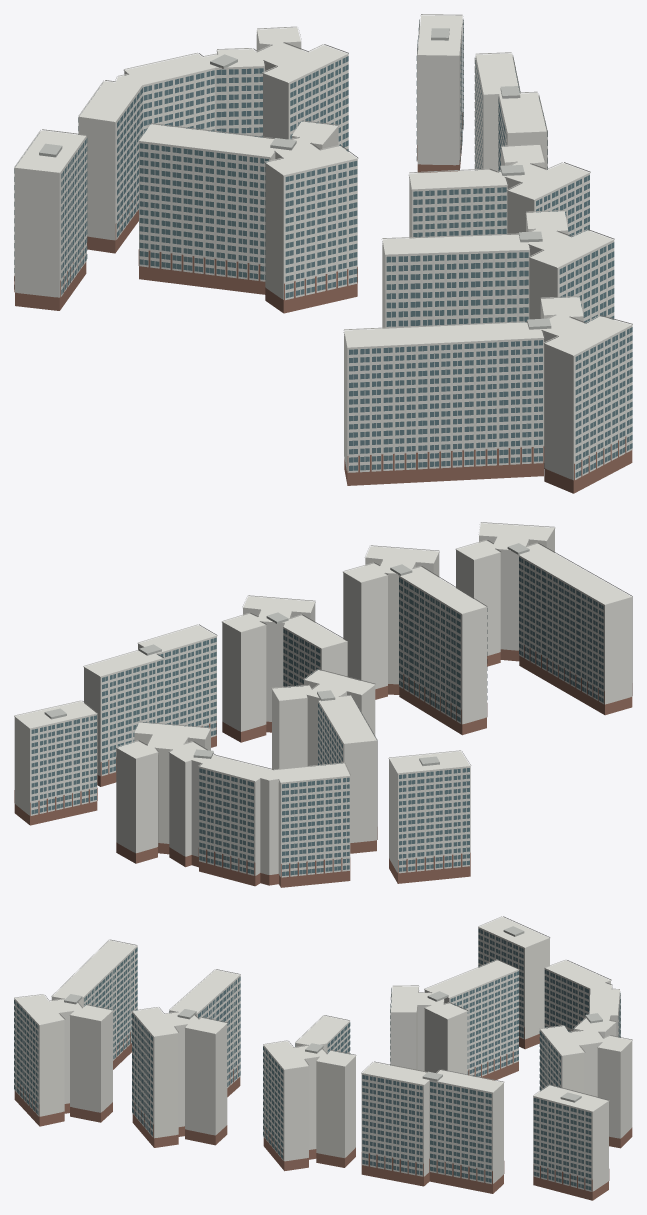
The model's file is representative-a15728003.glb.
The picture shows the model from 3 angles, top to bottom: view 1: azimuth 30°, elevation 25°; view 2: azimuth 150°, elevation 25°; view 3: azimuth 270°, elevation 25°; orthographic projection. The views are drawn at different scales.
Visible parts, largest first — view 1: A15728003_wall001, A15728003_trim001, A15728003_glass001, A15728003_base001, A15728003_roof001; view 2: A15728003_wall001, A15728003_trim001, A15728003_glass001, A15728003_base001, A15728003_roof001; view 3: A15728003_wall001, A15728003_trim001, A15728003_glass001, A15728003_base001, A15728003_roof001.
Part boxes in pixels (bbox=[...]): A15728003_wall001: bbox=[15, 15, 631, 480]; A15728003_trim001: bbox=[14, 14, 632, 479]; A15728003_glass001: bbox=[14, 20, 632, 477]; A15728003_base001: bbox=[14, 112, 632, 493]; A15728003_roof001: bbox=[39, 28, 551, 329]; A15728003_wall001: bbox=[14, 523, 632, 876]; A15728003_trim001: bbox=[14, 522, 632, 877]; A15728003_glass001: bbox=[31, 557, 603, 875]; A15728003_base001: bbox=[14, 645, 632, 887]; A15728003_roof001: bbox=[44, 543, 529, 765]; A15728003_wall001: bbox=[15, 917, 632, 1191]; A15728003_trim001: bbox=[14, 916, 632, 1191]; A15728003_glass001: bbox=[14, 928, 620, 1190]; A15728003_base001: bbox=[14, 1025, 632, 1200]; A15728003_roof001: bbox=[64, 926, 602, 1102].
Size of the model in its own units: 159 by 45.8 by 227.
